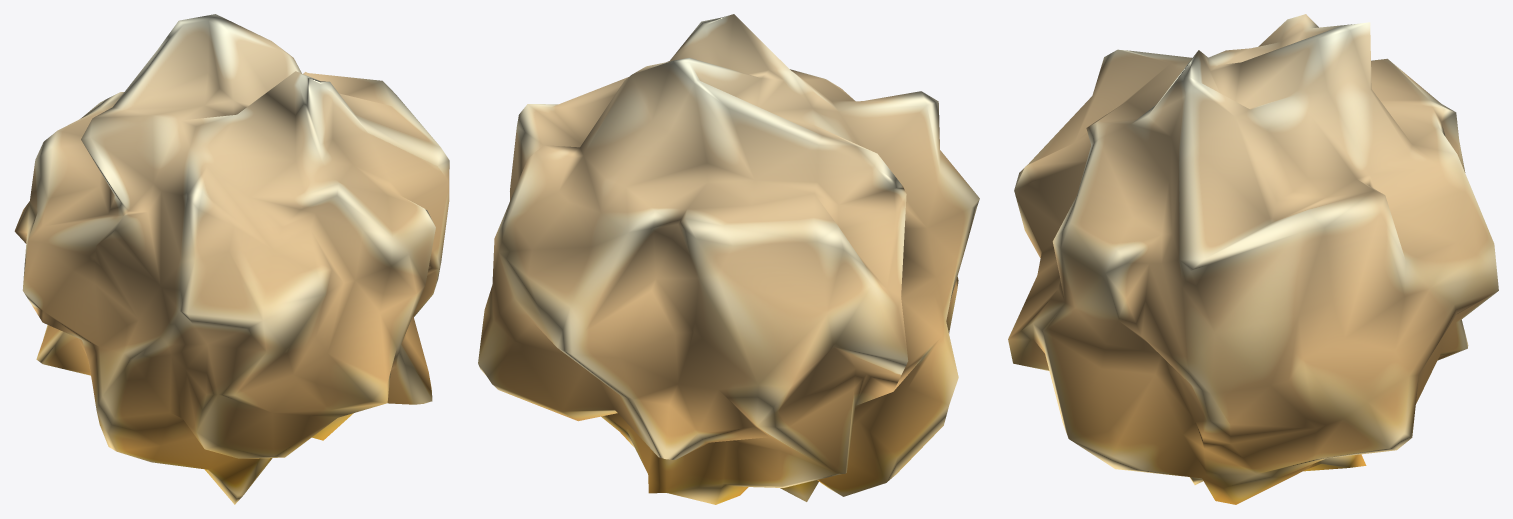
File: Paper_Crushed.fbx
3 renders of one model, left to right at view 1: azimuth 30°, elevation 25°; view 2: azimuth 150°, elevation 25°; view 3: azimuth 270°, elevation 25°, orthographic. The views are drawn at different scales.
Parts seen in each view (by area): view 1: Paper_Crushed; view 2: Paper_Crushed; view 3: Paper_Crushed.
Boxes of the visible parts, x1,y1,x2,y2 form: Paper_Crushed: (14, 14, 449, 504); Paper_Crushed: (478, 14, 979, 504); Paper_Crushed: (1008, 14, 1498, 504).
Bounding box in the file's own units: 879 × 961 × 887.
